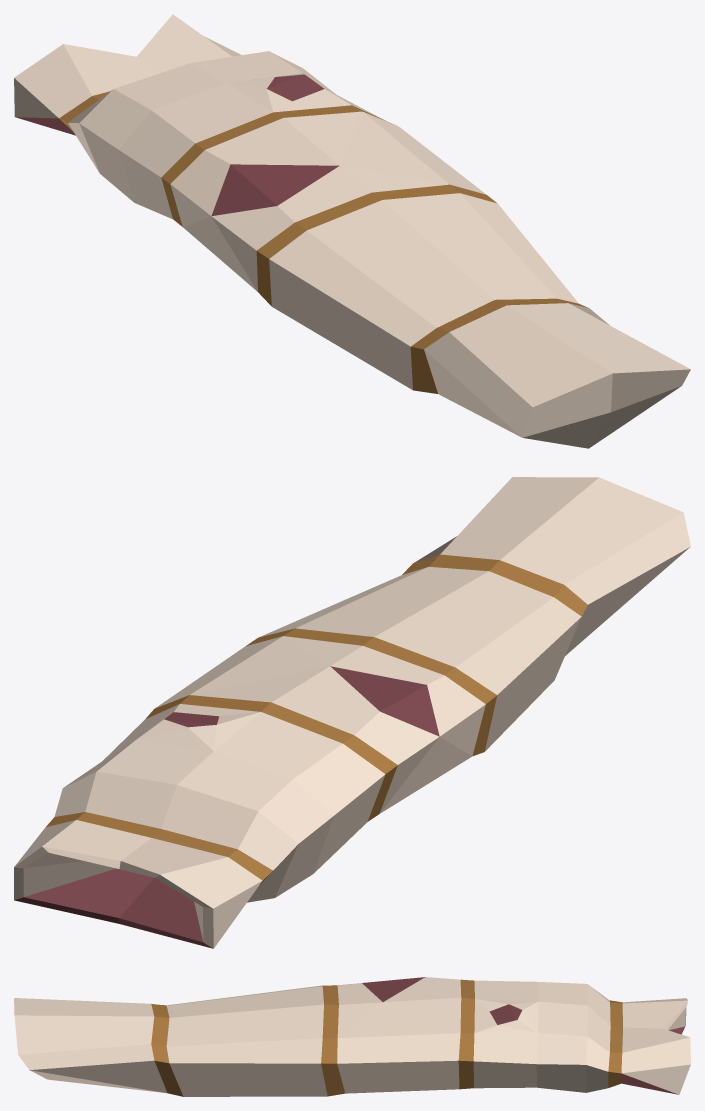
File: apocalypse-body-bag-empty-bloody-c.glb
3 views of the same model, one above another, from view 1: azimuth 30°, elevation 25°; view 2: azimuth 150°, elevation 25°; view 3: azimuth 270°, elevation 25° (orthographic). The views are drawn at different scales.
Visible parts, largest first — view 1: body-bag-empty-bloody-c; view 2: body-bag-empty-bloody-c; view 3: body-bag-empty-bloody-c.
Part boxes in pixels (left/top/right/bottom): body-bag-empty-bloody-c: left=14, top=14, right=690, bottom=448; body-bag-empty-bloody-c: left=14, top=477, right=690, bottom=948; body-bag-empty-bloody-c: left=14, top=977, right=690, bottom=1096.
Bounding box in the file's own units: 0.4602 × 0.2175 × 1.68.
